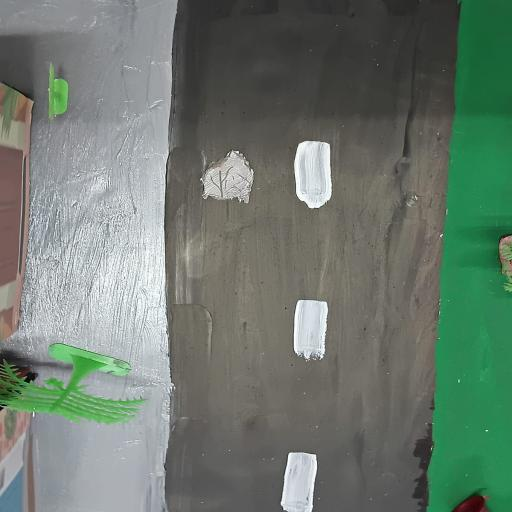porthole: (195, 147, 266, 207)
